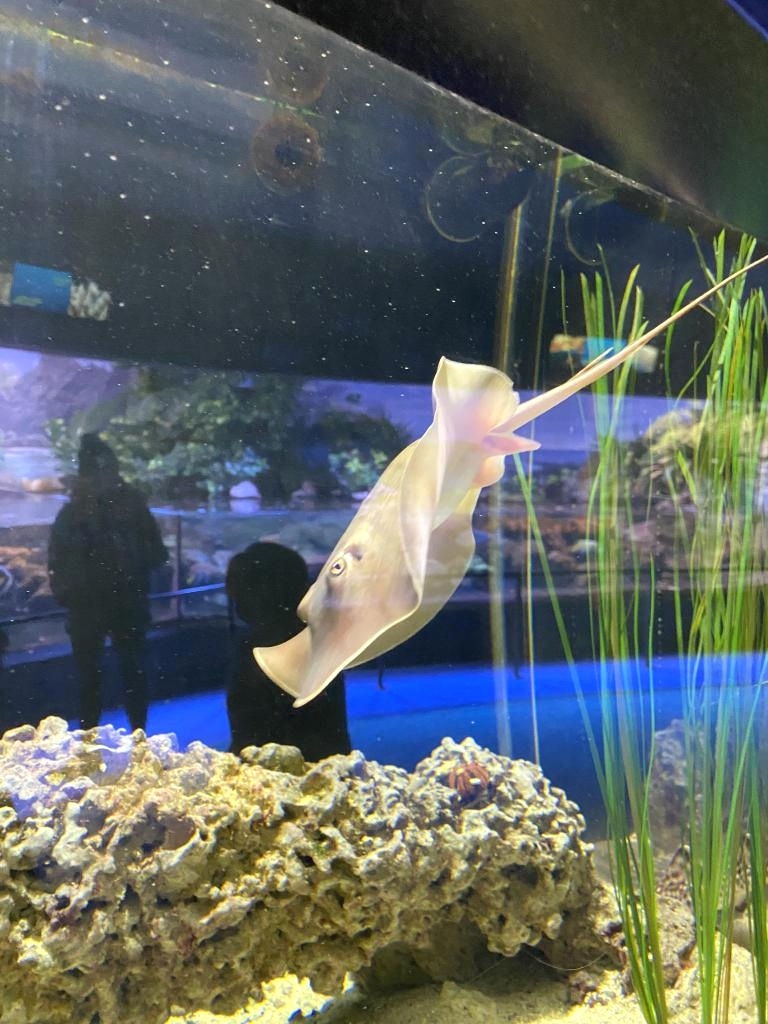stingray: (251, 340, 538, 708)
